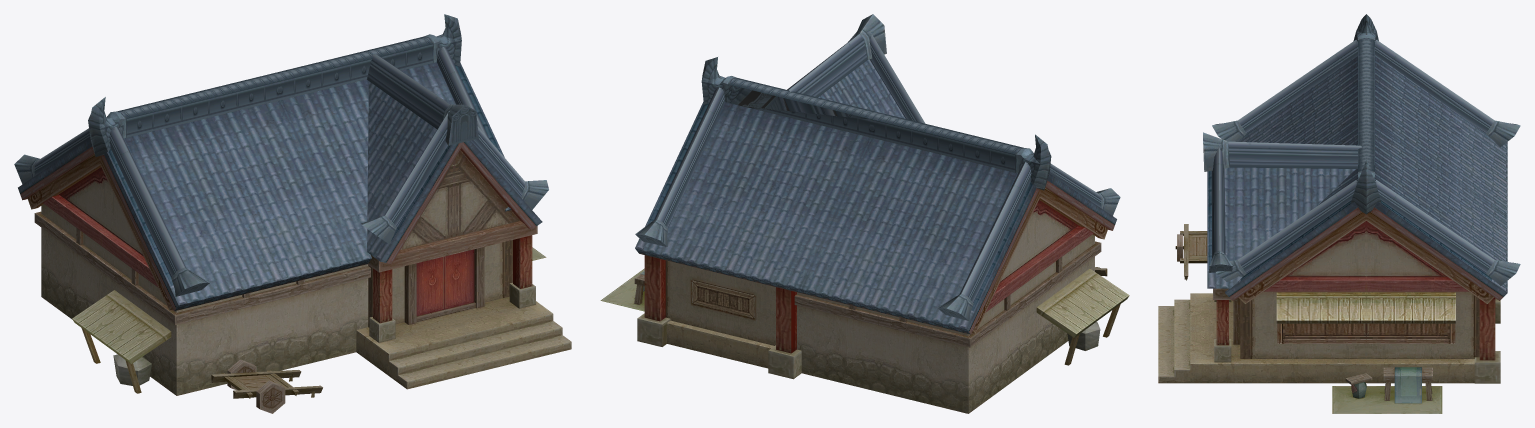
3 renders of one model, left to right at view 1: azimuth 30°, elevation 25°; view 2: azimuth 150°, elevation 25°; view 3: azimuth 270°, elevation 25°, orthographic. The views are drawn at different scales.
Parts seen in each view (by area): view 1: gujian_389; view 2: gujian_389; view 3: gujian_389.
Part boxes in pixels (bbox=[...]): gujian_389: bbox=[14, 14, 571, 413]; gujian_389: bbox=[600, 14, 1129, 413]; gujian_389: bbox=[1158, 14, 1520, 413].
Size of the model in its own units: 1.83 by 0.9597 by 1.42.
Materials: 4 (4 with a texture image).
